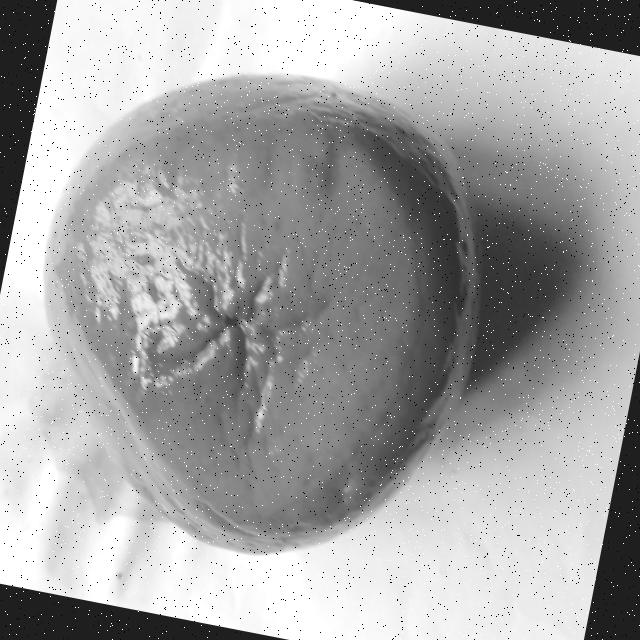Rotten: (0, 31, 526, 592)
